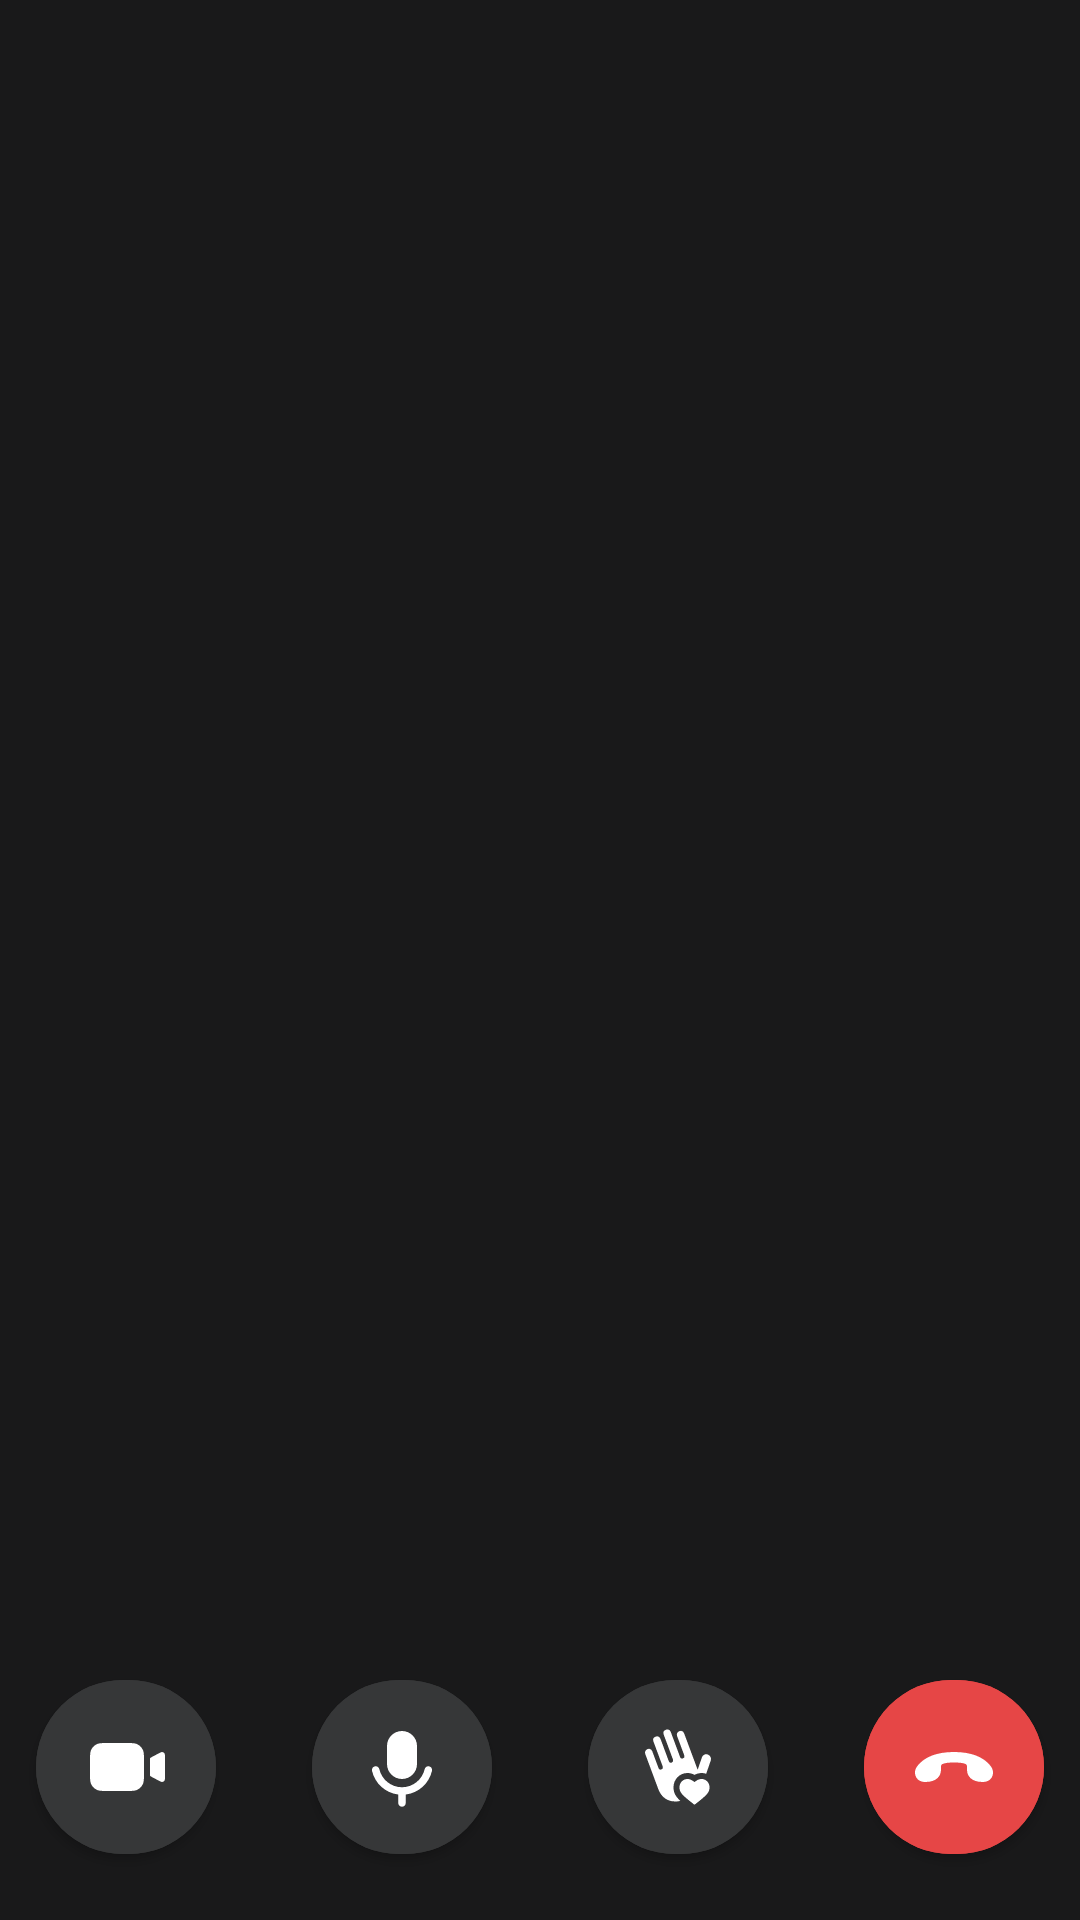

Where icons sit on this 1080px x 1920px app screen, as (x1, y1, x2, y2):
hand heart: (588, 1680, 768, 1854)
microphone: (312, 1680, 492, 1854)
phone down: (864, 1680, 1044, 1854)
videocam: (36, 1680, 216, 1854)
